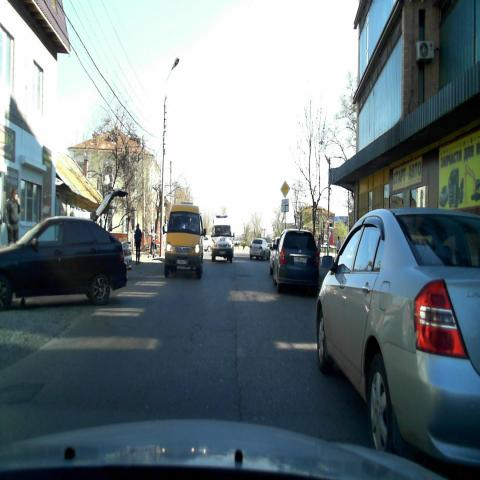8_13: (281, 198, 289, 212)
